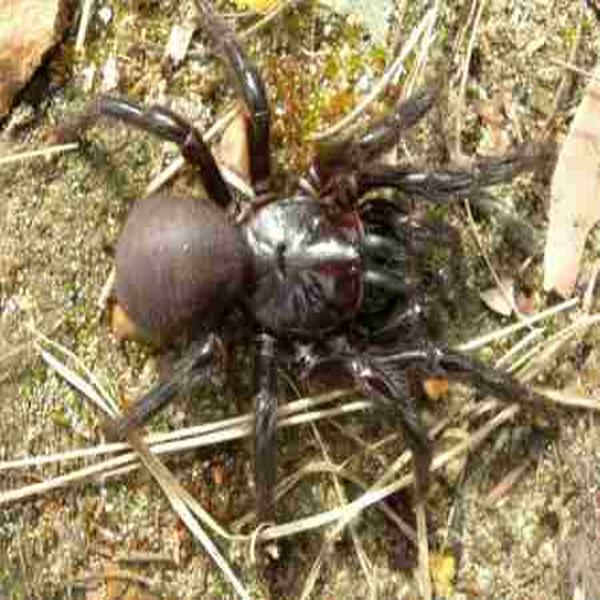Funnel Web Spider: (107, 20, 548, 515)
